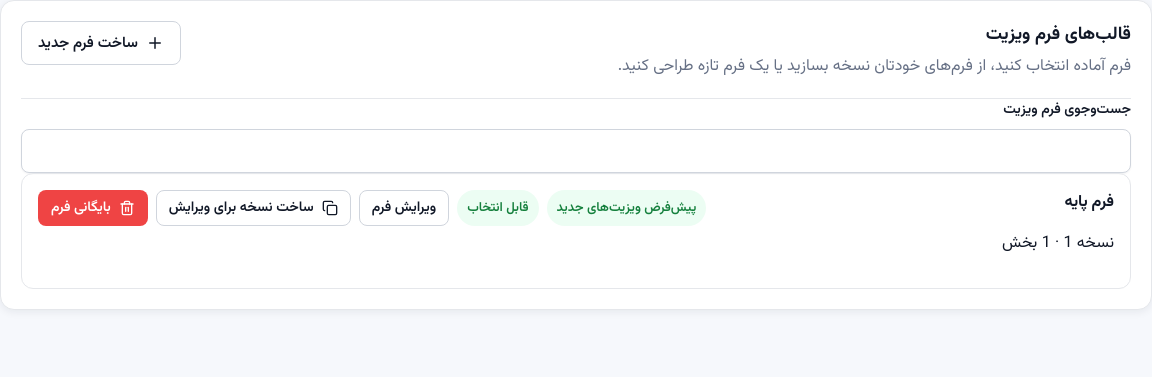
Scenario: VisitFormTemplatesSection permissions › opens a focused editor for a new template without saving before submit
Check: the text "فرم پایه" is shown, box [1064,190,1114,215]
Click the button "ساخت فرم جدید": [101, 43] box [21,21,181,65]
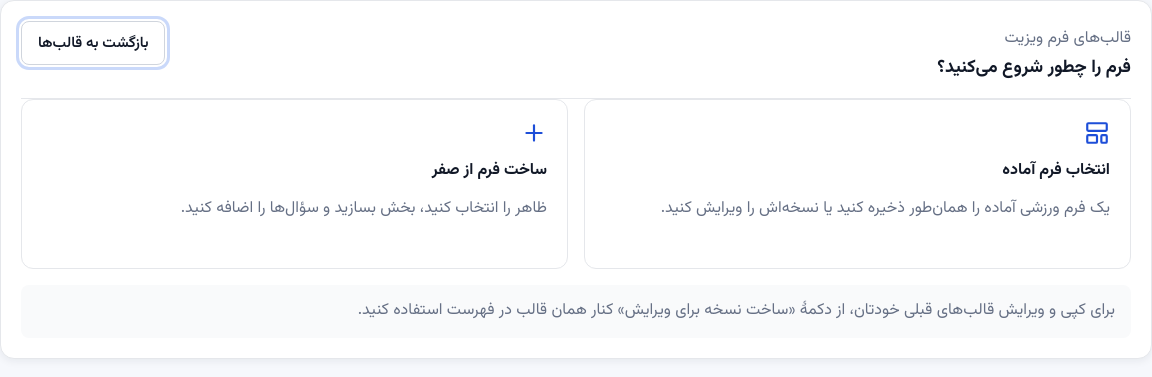
Check: the heading "فرم را چطور شروع می‌کنید؟" is shown, box [937,54,1131,82]
